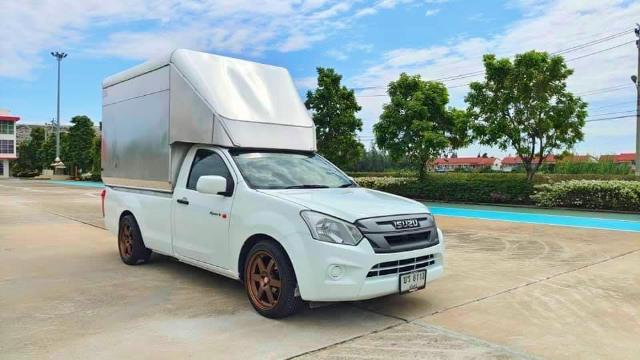pickup-truck: (80, 43, 454, 329)
